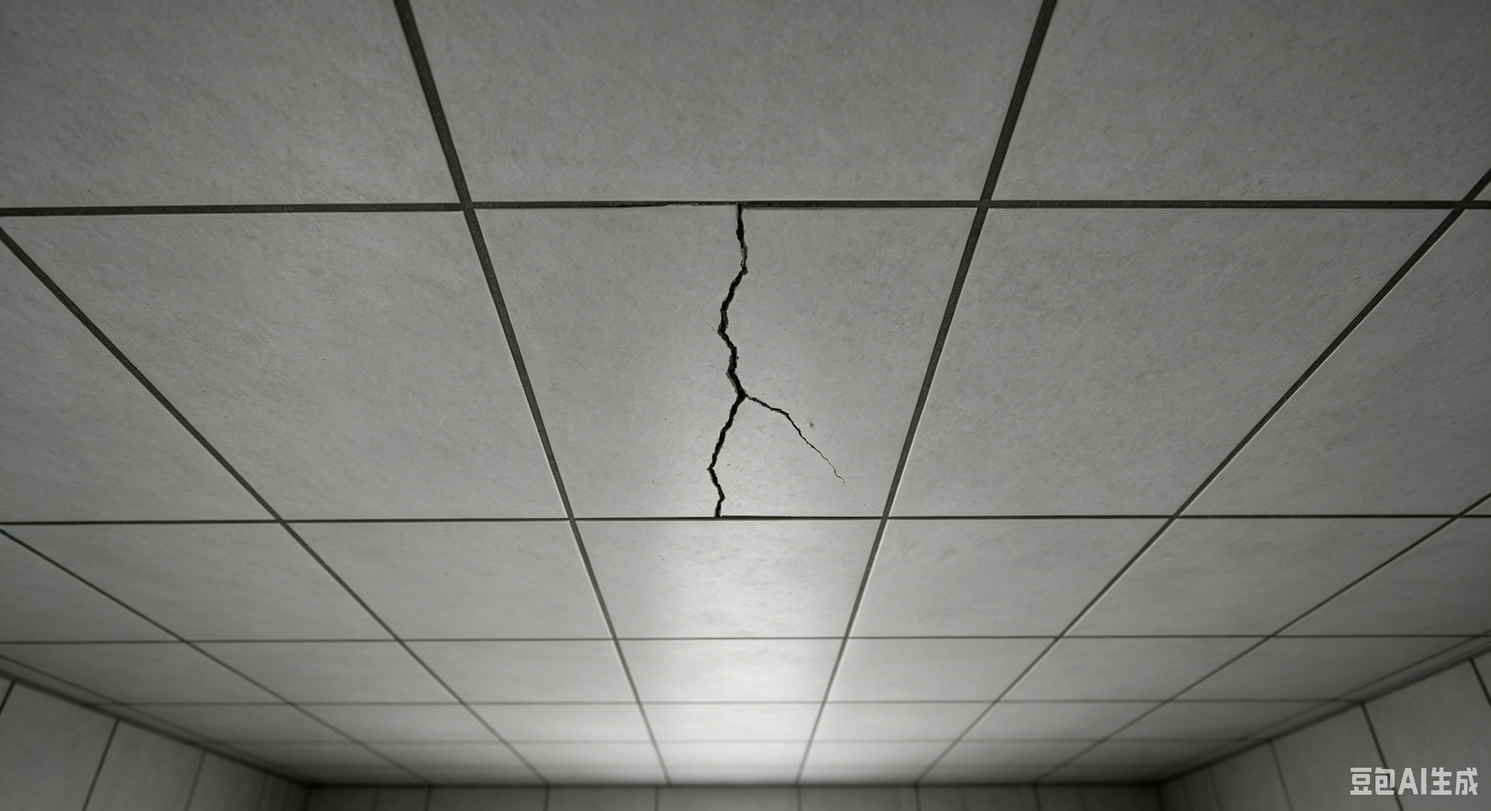floor_defect: (695, 204, 780, 525), (785, 397, 857, 501)
